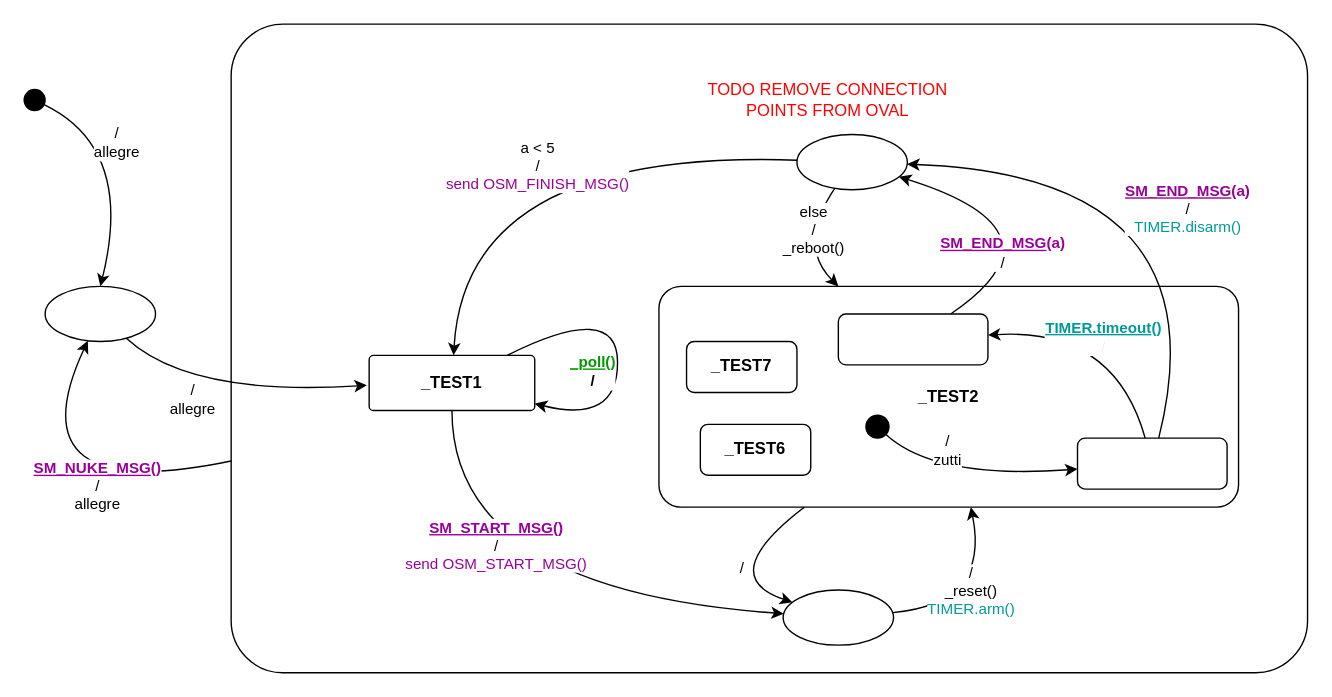
This 1332x697 diagram has some shape labels left out. The shapes that lost their labels are listed below. From the top down, each one's centre as x and y in pixels, then its label:
At (x=912, y=339): "_TEST3".
At (x=1151, y=463): "_TEST4".
